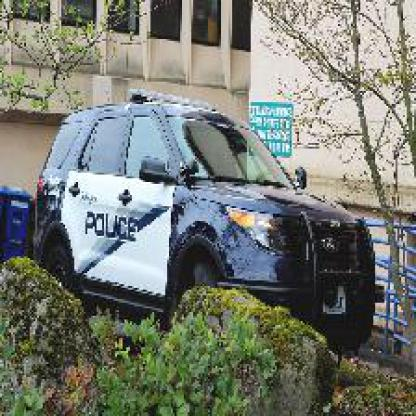emergency: (22, 89, 377, 366)
